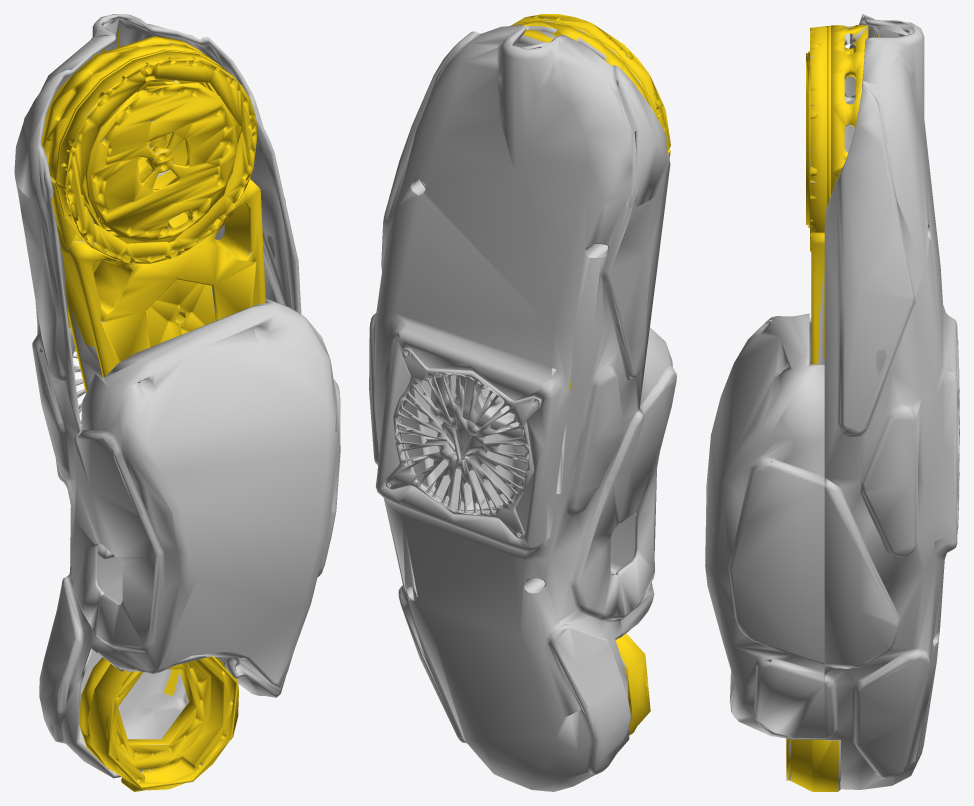
Rendered from lj3_left.dae.
3 renders of one model, left to right at view 1: azimuth 30°, elevation 25°; view 2: azimuth 150°, elevation 25°; view 3: azimuth 270°, elevation 25°, orthographic. The views are drawn at different scales.
Parts seen in each view (by area): view 1: Thigh_Left__1_; view 2: Thigh_Left__1_; view 3: Thigh_Left__1_.
Boxes of the visible parts, left/top/right/bottom form: Thigh_Left__1_: left=14, top=14, right=340, bottom=791; Thigh_Left__1_: left=369, top=14, right=676, bottom=791; Thigh_Left__1_: left=705, top=14, right=959, bottom=791.
Size of the model in its own units: 0.2184 by 0.1771 by 0.5764.
